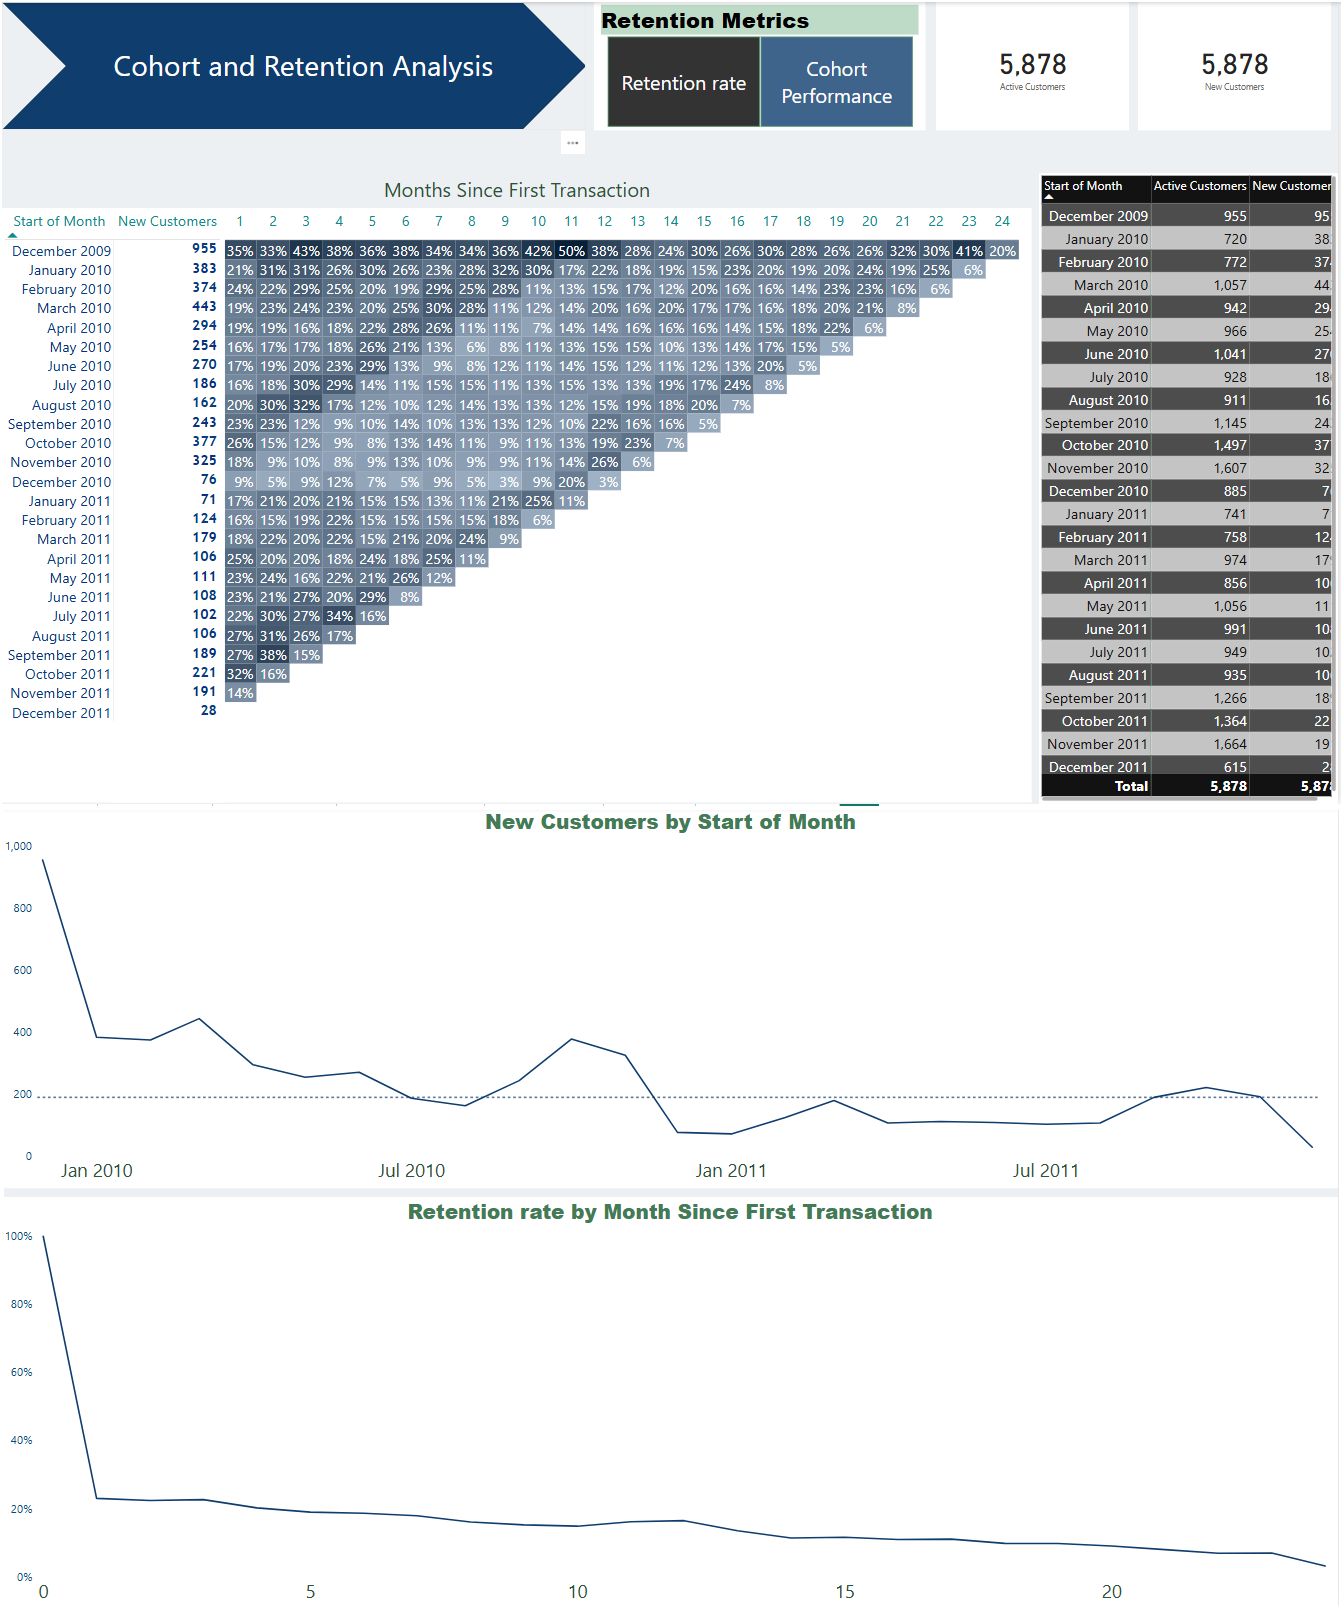

What the dashboard file says about the page in this screenshot:
{"tool":"powerbi","page":{"name":"Dashboard 01","canvas":[2500,1500],"ordinal":0},"visuals":[{"type":"shape","box":[0,0,1092.3,239.4],"z":0},{"type":"group","id":"g1","title":"Group 1","box":[0.4,386.2,1926.1,1111.9],"z":0,"group":"g2"},{"type":"pivotTable","fields":{"Values":["_Measures.Retention rate"],"Rows":["DimDate.Start of Month"],"Columns":["FactSales.Month Since First Transaction"]},"box":[204.3,386.2,1722.2,1111.9],"z":0,"group":"g1"},{"type":"card","fields":{"Values":["_Measures.Active Customers"]},"box":[1746,0,360.7,239.8],"z":1000},{"type":"textbox","box":[0,319.8,1926.1,66.4],"z":1000,"group":"g2"},{"type":"pivotTable","fields":{"Rows":["DimDate.Start of Month"],"Values":["_Measures.New Customers"]},"box":[0.4,386.2,416.7,1111.9],"z":1000,"group":"g1"},{"type":"card","fields":{"Values":["_Measures.New Customers"]},"box":[2123.9,0,360.7,239.8],"z":2000},{"type":"slicer","fields":{"Values":["Retention Metrics.Retention Metrics"]},"box":[1107.1,0,619.7,239.8],"z":3000},{"type":"group","id":"g2","title":"Group 2","box":[0,319.8,1926.4,1178.3],"z":4000},{"type":"textbox","box":[194.5,74.8,738.8,87.9],"z":5000},{"type":"pivotTable","fields":{"Rows":["DimDate.Start of Month"],"Values":["_Measures.Active Customers","_Measures.New Customers"]},"box":[1939.5,319.8,561.1,1180.2],"z":5001}]}

Visuals, with their boxes on the page's 2500x1500 design canvas (x1, y1, x2, y2). These are canvas units, not pixel positions in the 1343x1608 screenshot, which may show the page scaled, cropped or inside an application window:
shape: 0/0/1092/239
"Group 1" group: 0/386/1926/1498
pivotTable - _Measures.Retention rate x DimDate.Start of Month: 204/386/1926/1498
card - _Measures.Active Customers: 1746/0/2107/240
textbox: 0/320/1926/386
pivotTable - DimDate.Start of Month x _Measures.New Customers: 0/386/417/1498
card - _Measures.New Customers: 2124/0/2485/240
slicer - Retention Metrics.Retention Metrics: 1107/0/1727/240
"Group 2" group: 0/320/1926/1498
textbox: 194/75/933/163
pivotTable - DimDate.Start of Month x _Measures.Active Customers: 1940/320/2501/1500
